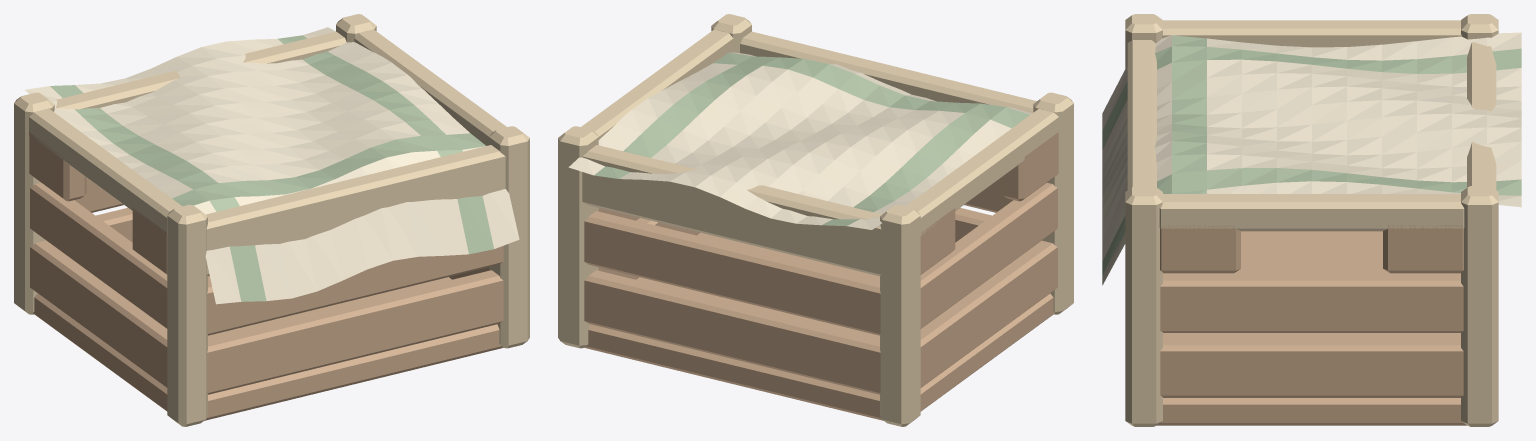
The model's file is crafted-parcel.glb.
3 renders of one model, left to right at view 1: azimuth 30°, elevation 25°; view 2: azimuth 150°, elevation 25°; view 3: azimuth 270°, elevation 25°, orthographic. The views are drawn at different scales.
Visible parts, largest first — view 1: crate-plank-1, crate-rim-1, crate-floor, crate-corner-1, crate-side, crate-side-2, crate-plank-3, crate-corner-3, crate-handle-rail, crate-corner, crate-rim, crate-handle-rail-1 (+17 smaller); view 2: crate-plank-2, crate-plank, crate-rim, crate-floor, crate-corner, crate-side, crate-side-2, crate-corner-2, crate-handle-rail, crate-rim-1, crate-corner-1, crate-handle-rail-1 (+43 smaller); view 3: crate-side-1, crate-side-3, crate-floor, crate-handle-rail-1, crate-corner-2, crate-corner-3, crate-handle-rail, crate-rim-1, crate-handle-end-2, crate-handle-end-3, crate-rim, crate-corner-1 (+76 smaller).
Part boxes in pixels (x1,y1,x2,y2): crate-plank-1: [207, 270, 503, 394]; crate-rim-1: [206, 145, 505, 276]; crate-floor: [33, 276, 503, 420]; crate-corner-1: [167, 204, 207, 426]; crate-side: [30, 240, 167, 387]; crate-side-2: [30, 183, 167, 328]; crate-plank-3: [207, 246, 503, 335]; crate-corner-3: [489, 126, 529, 348]; crate-handle-rail: [29, 109, 181, 235]; crate-corner: [14, 92, 54, 314]; crate-rim: [56, 31, 346, 109]; crate-handle-rail-1: [354, 29, 506, 145]; crate-plank-2: [584, 211, 880, 335]; crate-plank: [584, 270, 880, 394]; crate-rim: [582, 145, 881, 276]; crate-floor: [584, 232, 1054, 420]; crate-corner: [880, 204, 920, 426]; crate-side: [920, 240, 1057, 387]; crate-side-2: [920, 183, 1057, 328]; crate-corner-2: [558, 126, 598, 348]; crate-handle-rail: [906, 109, 1058, 235]; crate-rim-1: [740, 31, 1036, 113]; crate-corner-1: [1033, 92, 1073, 314]; crate-handle-rail-1: [581, 29, 733, 139]; crate-side-1: [1160, 338, 1463, 397]; crate-side-3: [1160, 273, 1463, 332]; crate-floor: [1157, 231, 1466, 425]; crate-handle-rail-1: [1159, 194, 1464, 231]; crate-corner-2: [1461, 186, 1498, 426]; crate-corner-3: [1125, 186, 1162, 426]; crate-handle-rail: [1162, 20, 1461, 47]; crate-rim-1: [1127, 40, 1156, 189]; crate-handle-end-2: [1383, 225, 1463, 273]; crate-handle-end-3: [1160, 225, 1240, 273]; crate-rim: [1467, 42, 1496, 189]; crate-corner-1: [1125, 14, 1162, 68].
Bounding box in the file's own units: 0.498 × 0.287 × 0.47.
